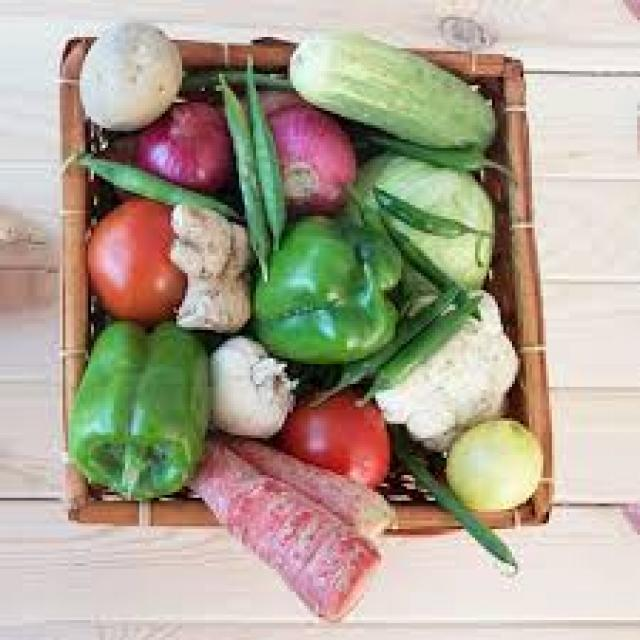organic waste: (188, 435, 381, 617), (62, 318, 208, 501), (282, 26, 492, 150), (248, 213, 401, 370), (372, 287, 514, 441), (350, 148, 489, 290), (387, 430, 518, 574), (225, 435, 392, 546), (313, 284, 455, 392), (85, 196, 188, 322), (361, 296, 481, 395), (213, 74, 270, 279), (282, 390, 392, 492), (71, 148, 236, 216), (372, 214, 478, 318), (77, 20, 179, 128), (259, 100, 350, 219), (168, 202, 245, 324), (131, 94, 227, 190), (205, 330, 290, 438), (446, 415, 540, 512), (350, 114, 495, 176), (239, 57, 284, 247), (370, 173, 492, 239), (179, 65, 296, 94)
